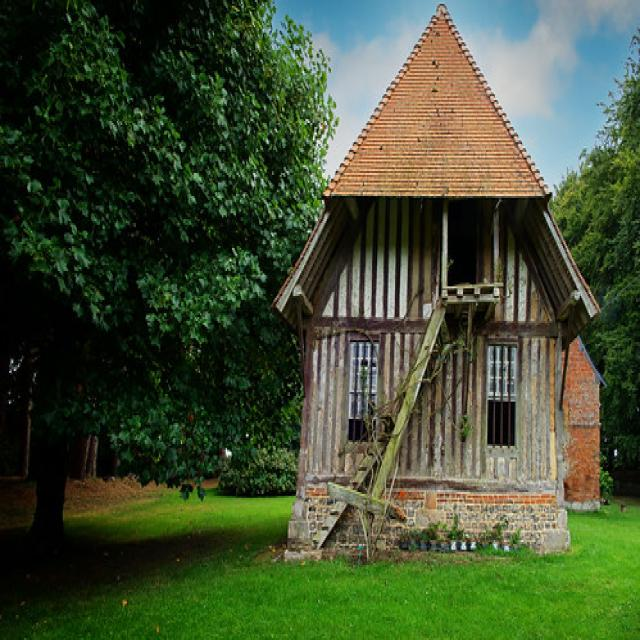building: (268, 5, 612, 564)
